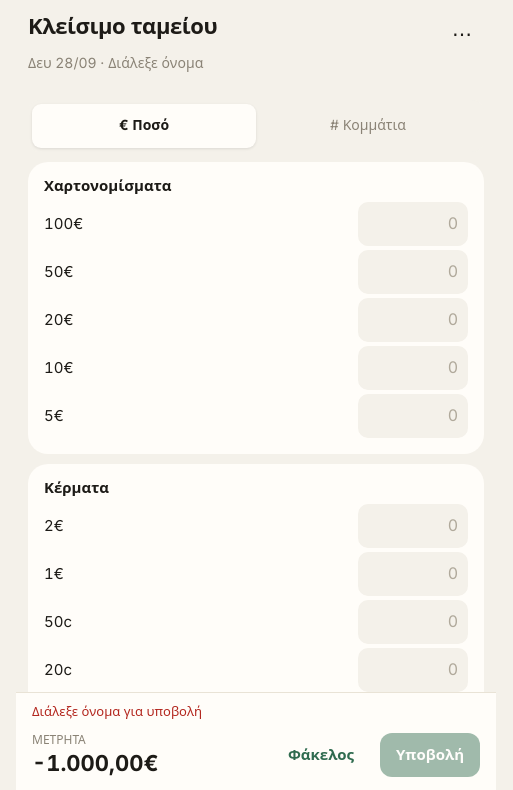
Test case: register flows › blocks Φάκελος and Υποβολή while a field is wrong, and names it
Step 1. Type "95" into the field named "10€" → (413, 368), box [358,346,468,390]
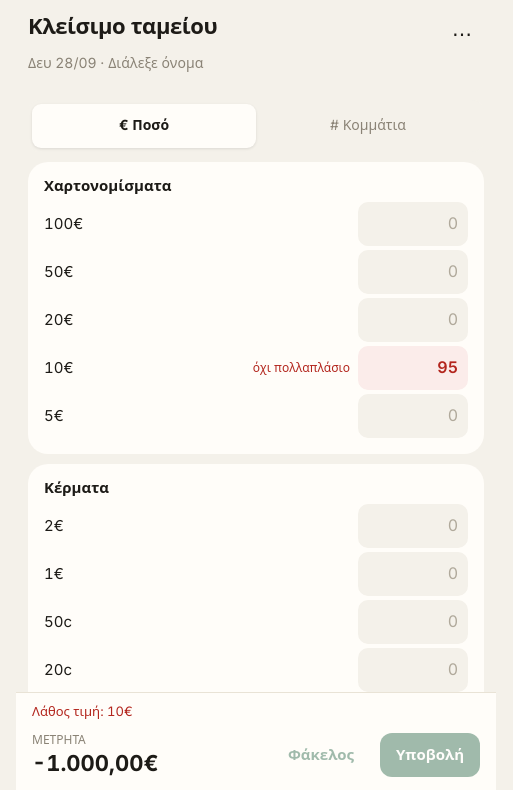
expect the button "Υποβολή" is disabled: met, box [380,733,480,777]
expect the button "Φάκελος" is disabled: met, box [272,733,370,777]
expect the text "Λάθος τιμή: 10€" is shown: met, box [32,703,133,719]
